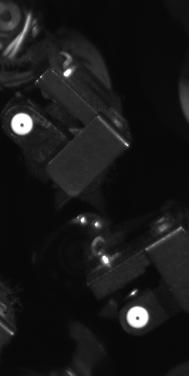fiber: (8, 109, 40, 141), (123, 304, 156, 332)
